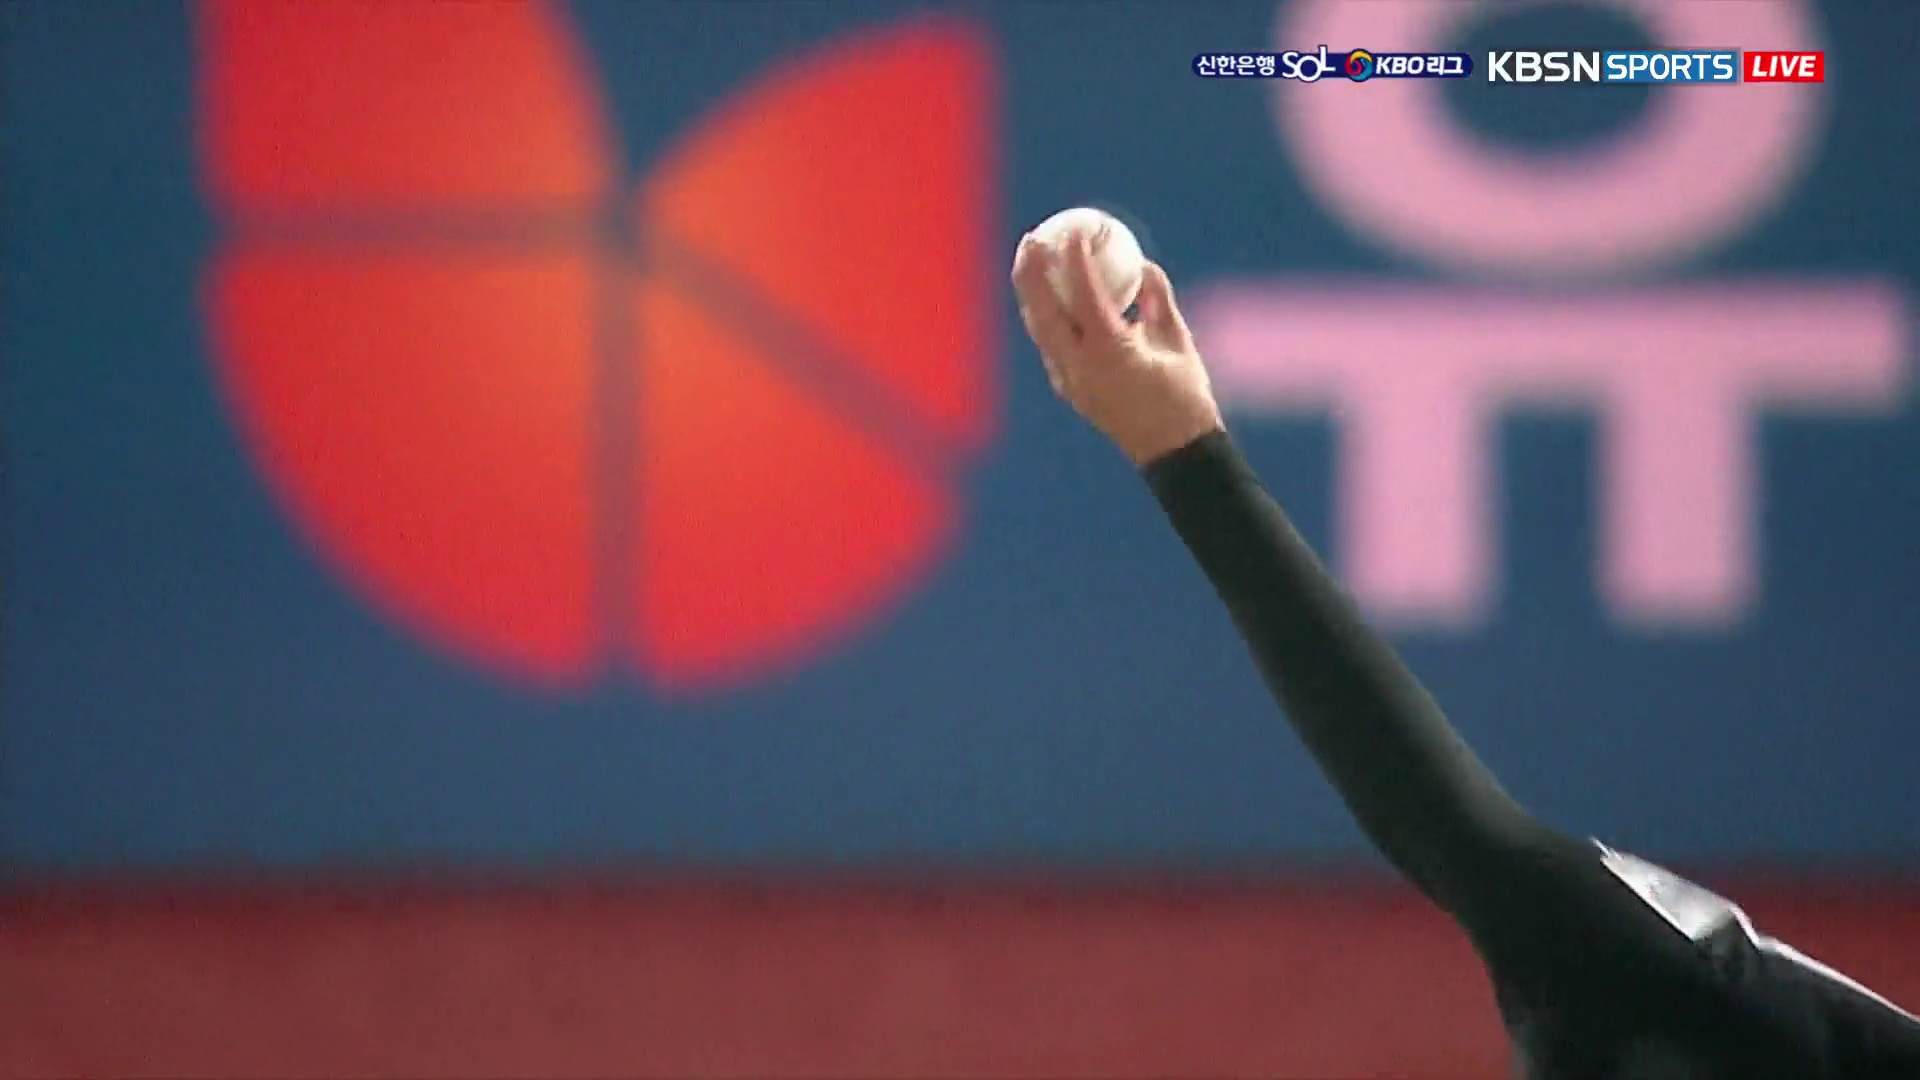zoomin_hand: (1004, 196, 1516, 868)
